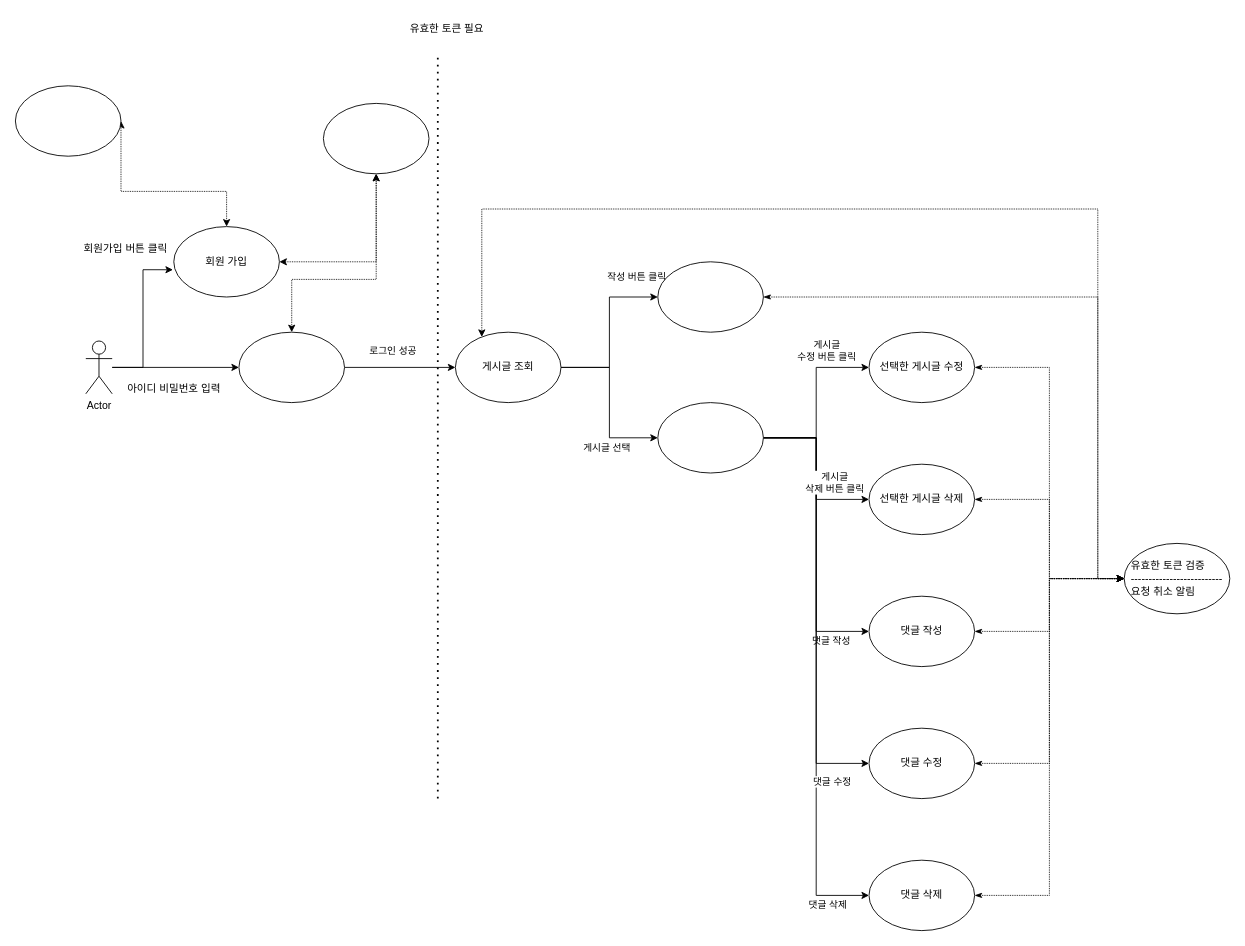
The diagram is 1245 pixels wide and 946 high, and some of its shapes have lost their labels. The centre of each missing label's shape, as x and y in pixels:
게시글 작성: the point at 710,296
로그인: the point at 291,367
사용자 이름 중복 여부 확인: the point at 68,120
선택한 게시글 조회: the point at 710,437
입력값 검증: the point at 376,138
